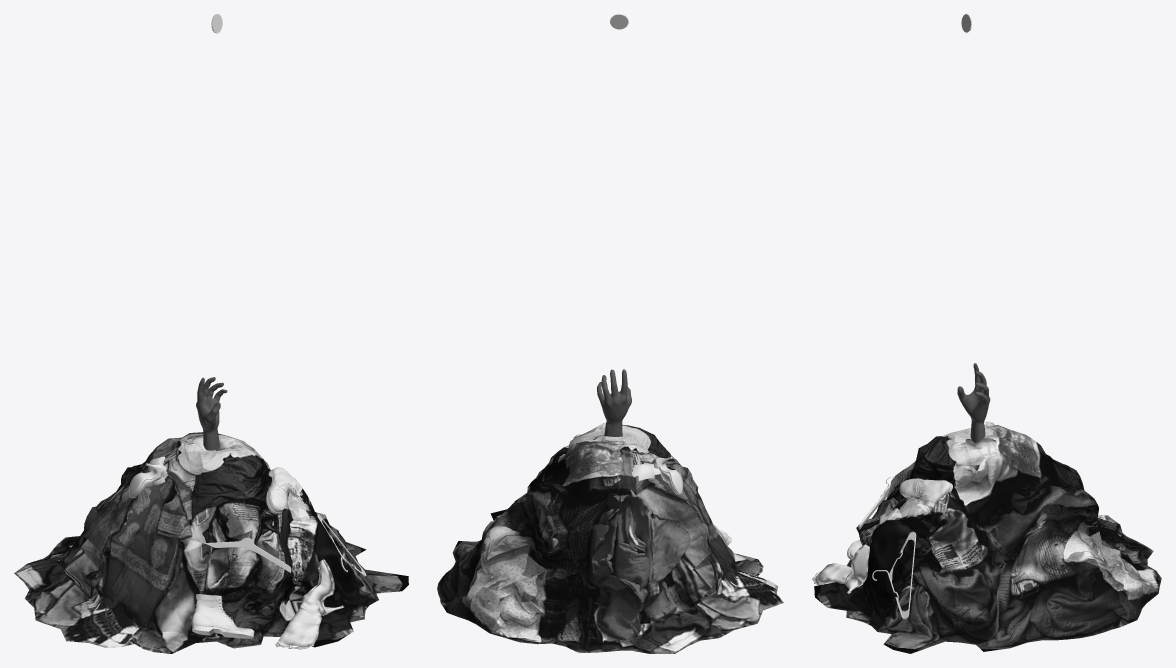
File: cloth pile and coin with animated camera.gltf
The picture shows the model from 3 angles, left to right: view 1: azimuth 30°, elevation 25°; view 2: azimuth 150°, elevation 25°; view 3: azimuth 270°, elevation 25°; orthographic projection. The views are drawn at different scales.
Visible parts, largest first — view 1: PileOfCloth, Boot.03, Boot.01, Hand low poly, Boot.02, Boot.04, Hanger.01; view 2: PileOfCloth, Hand low poly, Boot.04; view 3: PileOfCloth, Boot.03, Hand low poly, Boot.02, Hanger.02.
Part boxes in pixels (x1,y1,x2,y2): PileOfCloth: (14,432,408,653); Boot.03: (275,559,344,649); Boot.01: (191,594,254,638); Hand low poly: (196,377,227,450); Boot.02: (266,467,302,514); Boot.04: (129,456,167,498); Hanger.01: (203,524,291,572); PileOfCloth: (437,422,783,653); Hand low poly: (597,369,631,436); Boot.04: (631,456,683,494); PileOfCloth: (814,425,1161,653); Boot.03: (812,544,869,593); Hand low poly: (957,363,990,442); Boot.02: (899,478,952,512); Hanger.02: (872,531,916,619).
Size of the model in its own units: 4.31 by 7.42 by 4.14.
Materials: 4 (1 with a texture image).
